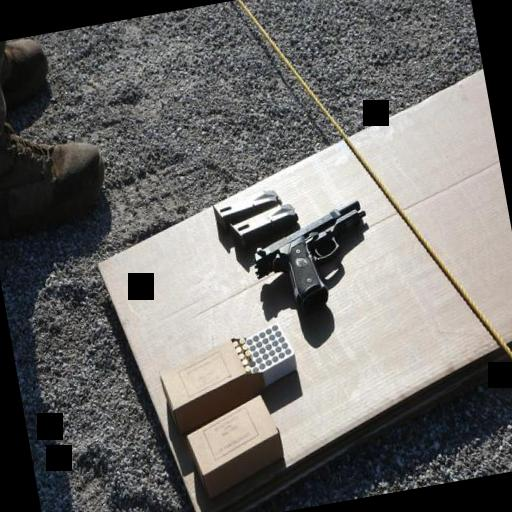Handgun: (239, 190, 382, 330)
